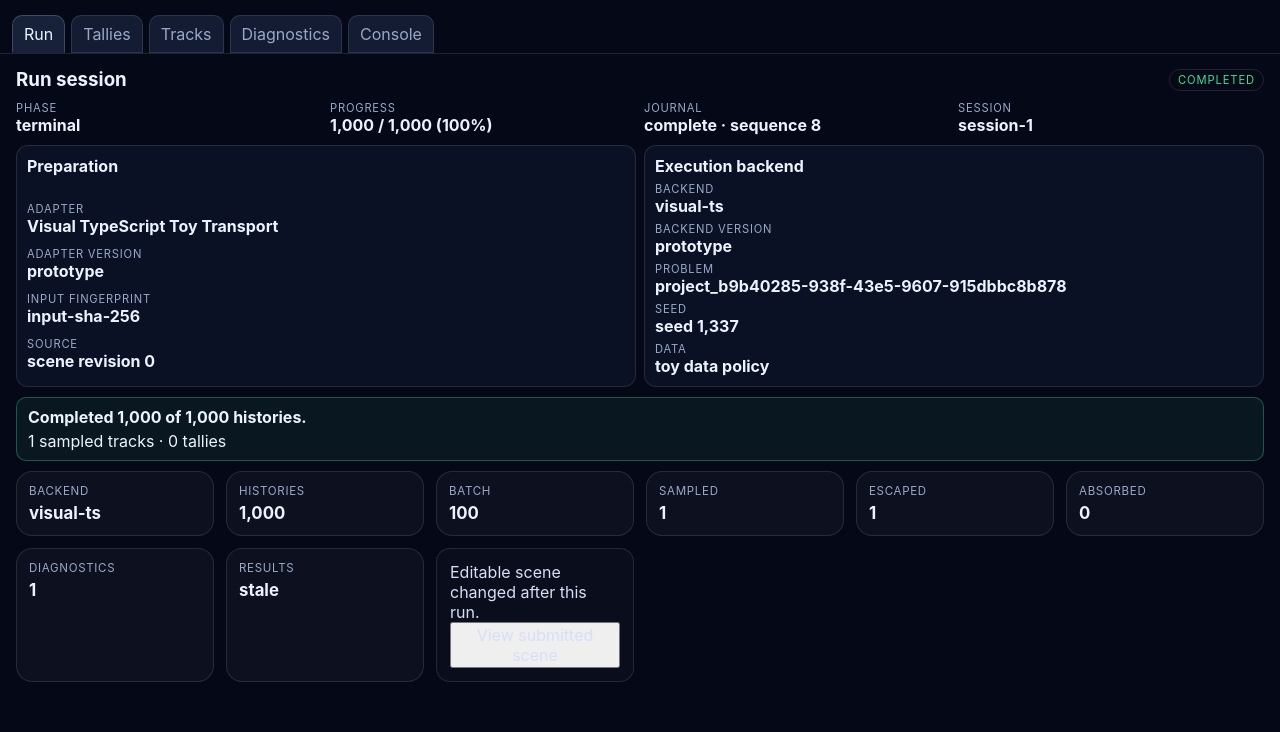
RunPanel tabs › keeps completed metrics bound to the submitted session after editable settings change
Expected: the text "histories" shows "1,000", x1=239 y1=503 x2=285 y2=523
Expected: the text "batch" shows "100", x1=449 y1=503 x2=479 y2=523
Click the tab "tracks" at (186, 34), box x1=149 y1=15 x2=224 y2=53
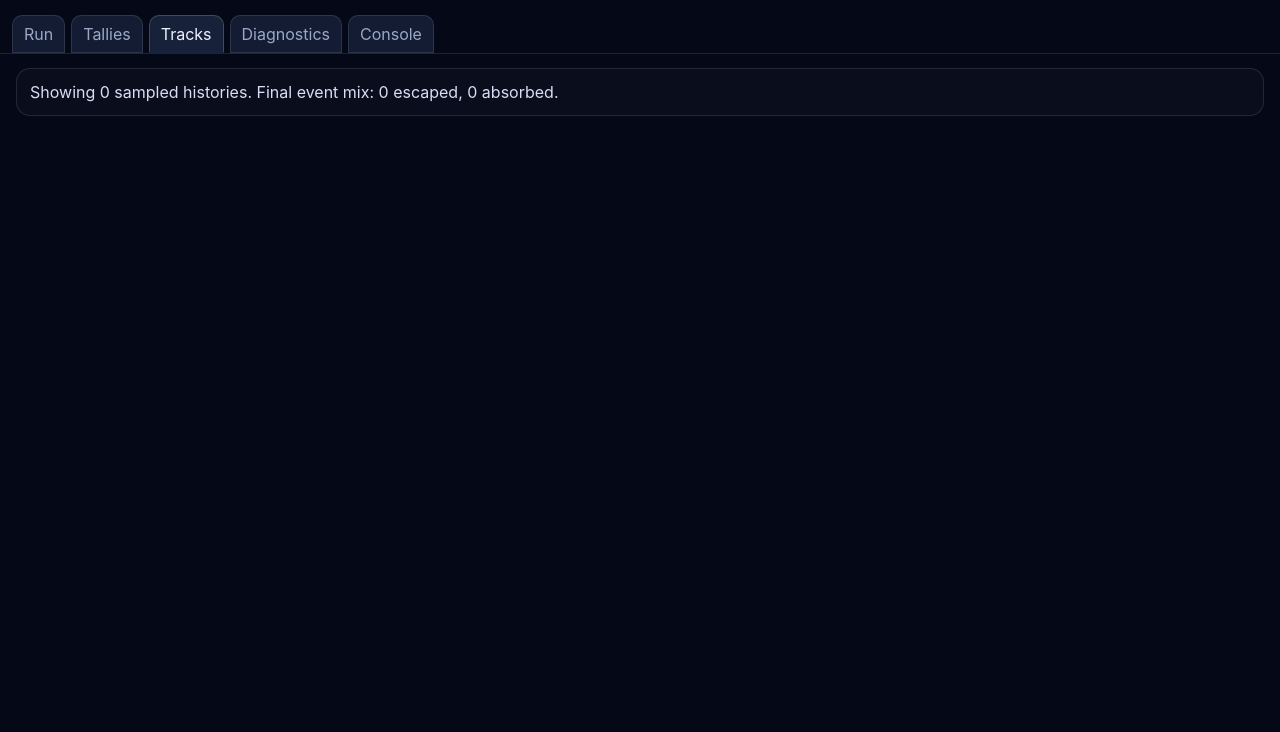
Now the panel reads "Showing 0 sampled histories. Final event mix: 0 escaped, 0 absorbed.", box x1=16 y1=68 x2=1264 y2=116
Click the tab "console" at (391, 34), box x1=348 y1=15 x2=434 y2=53
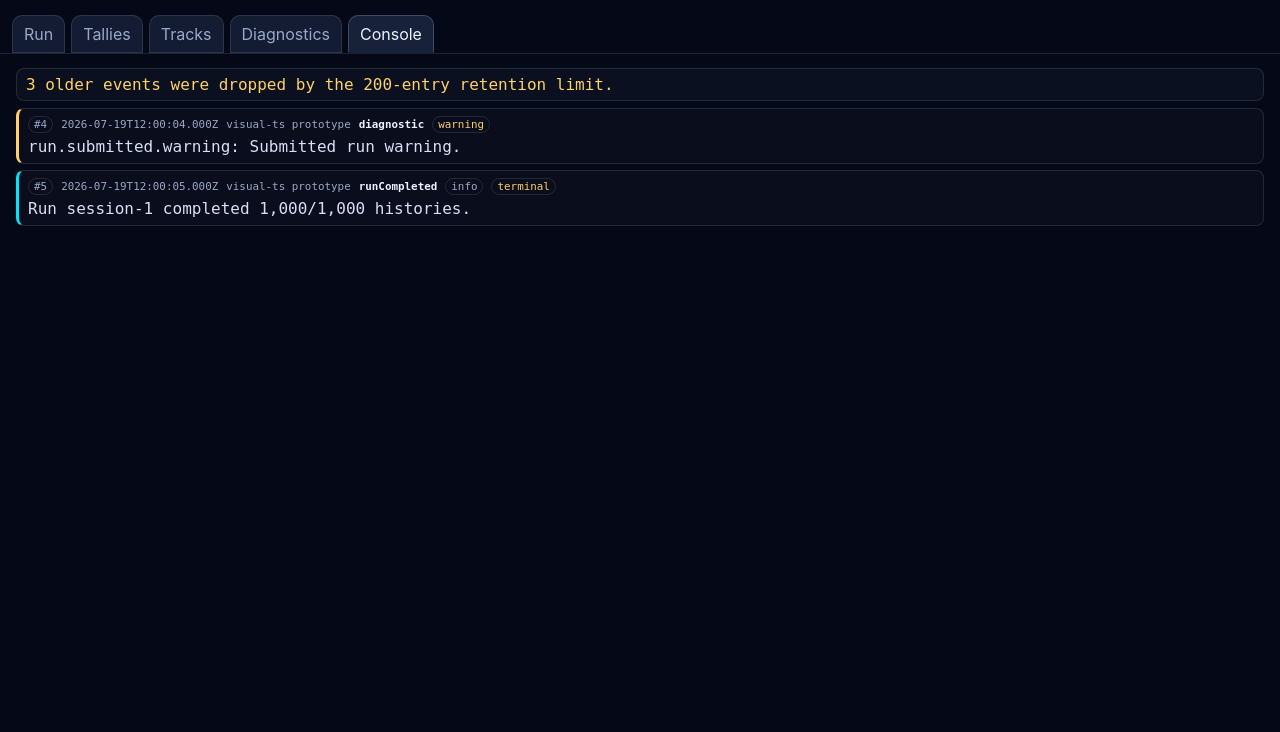
Now the number of list items is 2, box x1=16 y1=108 x2=1264 y2=164; x1=16 y1=170 x2=1264 y2=226
Now the list item that starts with "2026-07-19T12:00:04.000Z" shows "#4", box x1=16 y1=108 x2=1264 y2=164
Now the list item that starts with "2026-07-19T12:00:04.000Z" shows "diagnostic", box x1=359 y1=118 x2=424 y2=131
